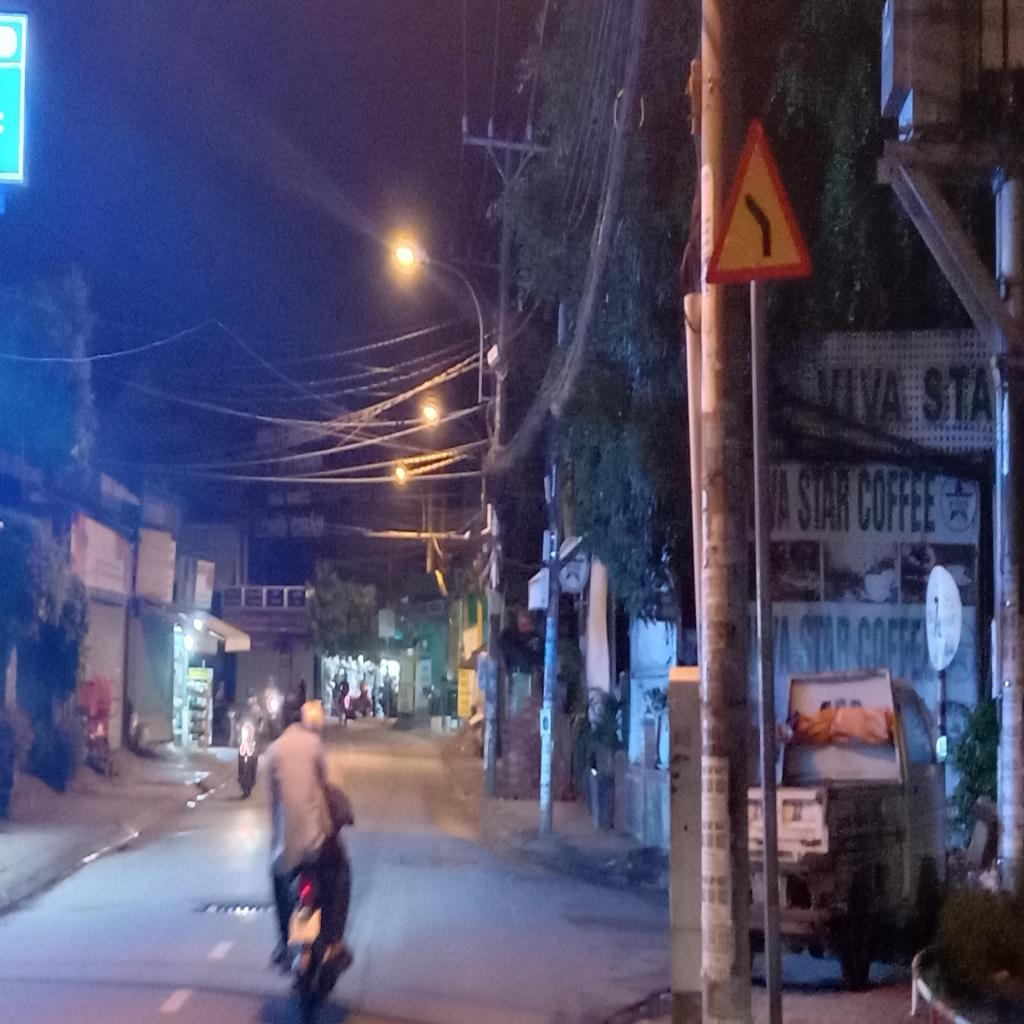cho_ngoat_nguy_hiem_ben_trai: (703, 111, 815, 286)
